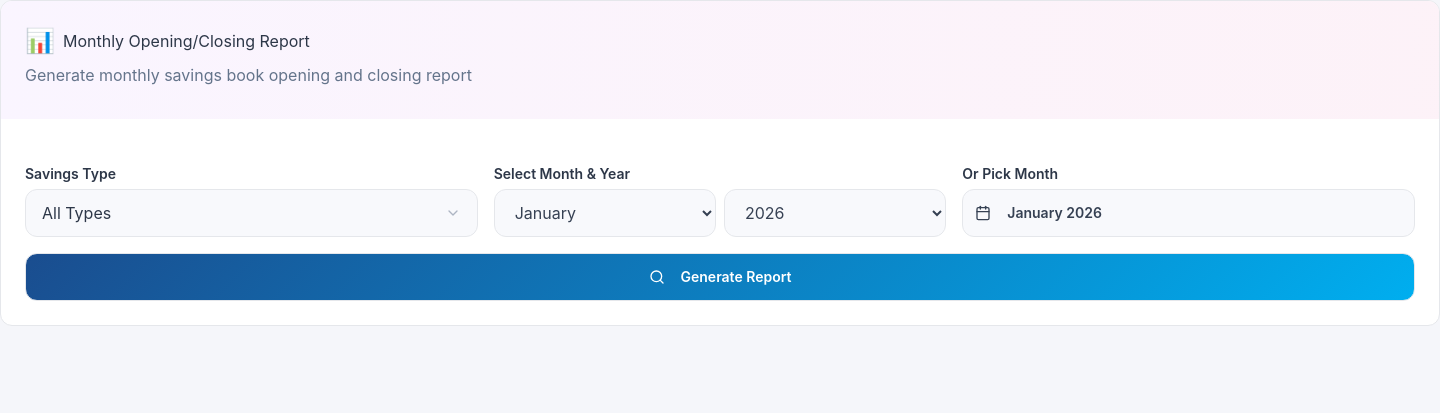
UC10 - Monthly Open/Close Report › F) Error State - Service Unavailable › should show error alert on generic error
Click the button "Generate Report": {"x": 720, "y": 277} [25, 253, 1415, 301]
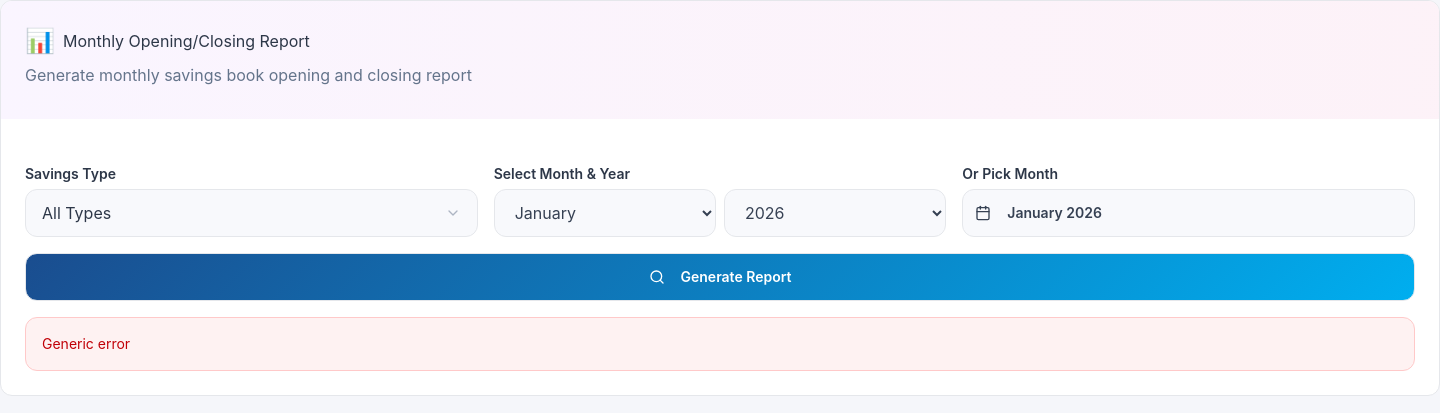
Expected: the text "Generic error" is shown, [25, 317, 1415, 371]
